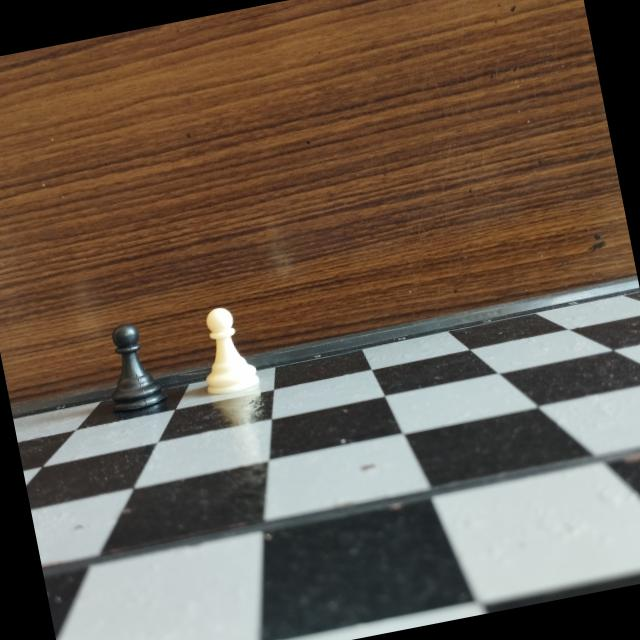Black Pawn: (92, 312, 170, 418)
White Pawn: (189, 296, 266, 404)
